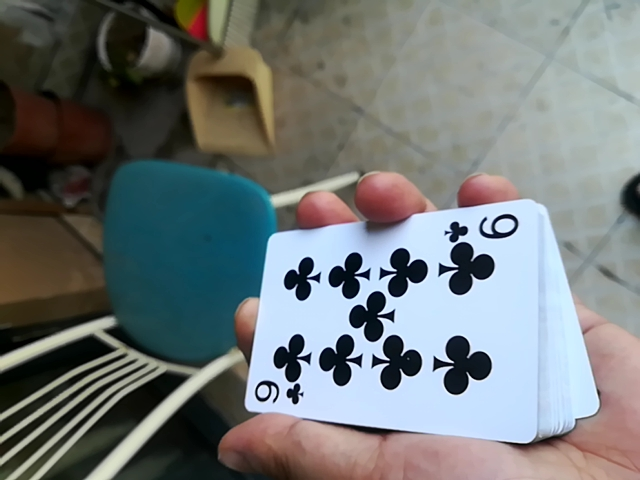mh 9: (235, 197, 588, 442)
